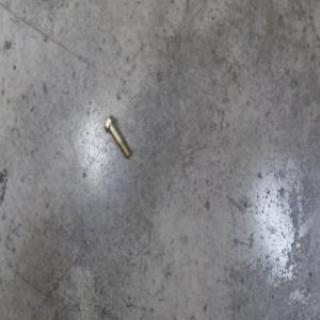Bolttrack_idkeyframe: (103, 114, 130, 160)
